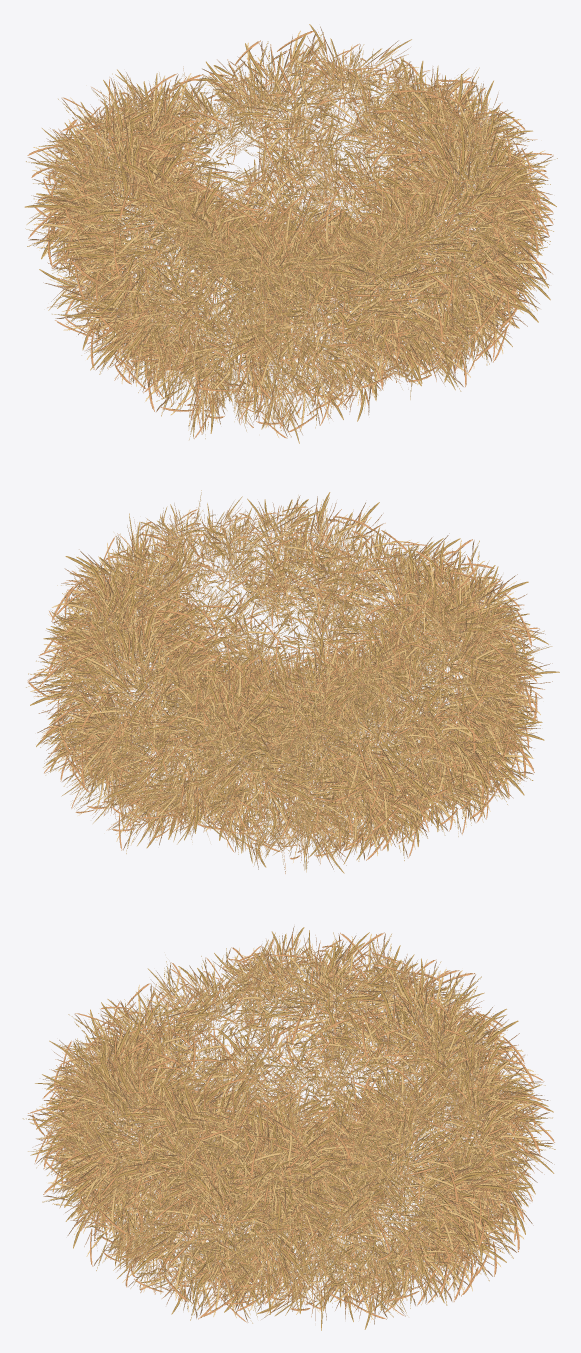
Rendered from Nest_Twigs.fbx.
3 views of the same model, one above another, from view 1: azimuth 30°, elevation 25°; view 2: azimuth 150°, elevation 25°; view 3: azimuth 270°, elevation 25° (orthographic). The views are drawn at different scales.
Visible parts, largest first — view 1: Nest_Twigs_normal; view 2: Nest_Twigs_normal; view 3: Nest_Twigs_normal.
Part boxes in pixels (<box>): Nest_Twigs_normal: <box>24,24,557,443</box>; Nest_Twigs_normal: <box>26,490,559,873</box>; Nest_Twigs_normal: <box>22,926,555,1330</box>.
Size of the model in its own units: 6.82 by 3.91 by 6.79.
